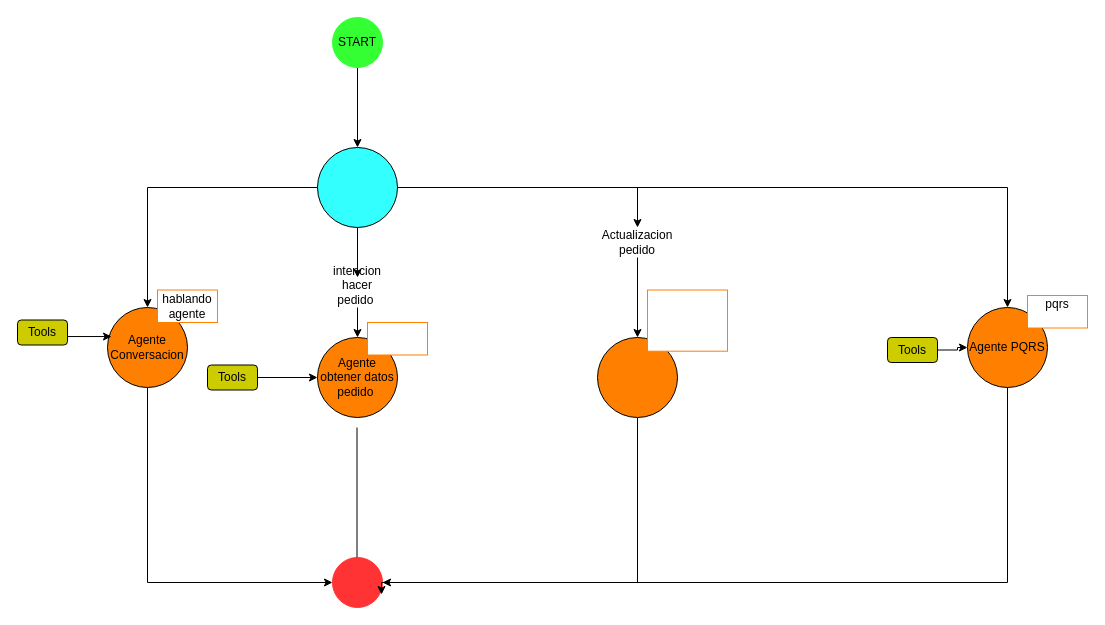
Image size: 1105x625. Some labels were removed from this diagram. Here are the shapes that lost their labels. From the top down, the centre of each, then its label:
the point at 357,187: supervisor
the point at 397,338: obteniendo datos pedios
the point at 687,320: obtiene datos para actualizar pedido
the point at 637,377: Agente obtener datos actualizar pedido
the point at 357,582: END
